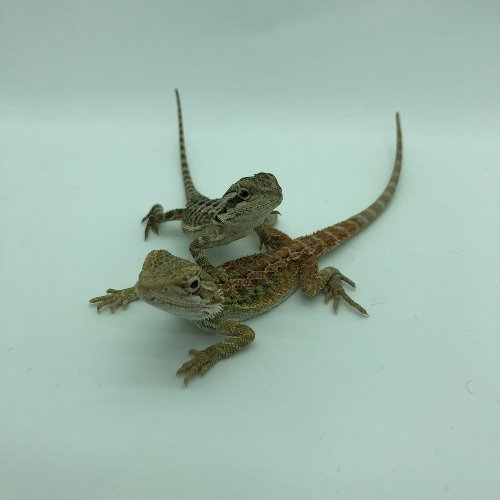bearded: (93, 118, 401, 386), (139, 88, 285, 269)
